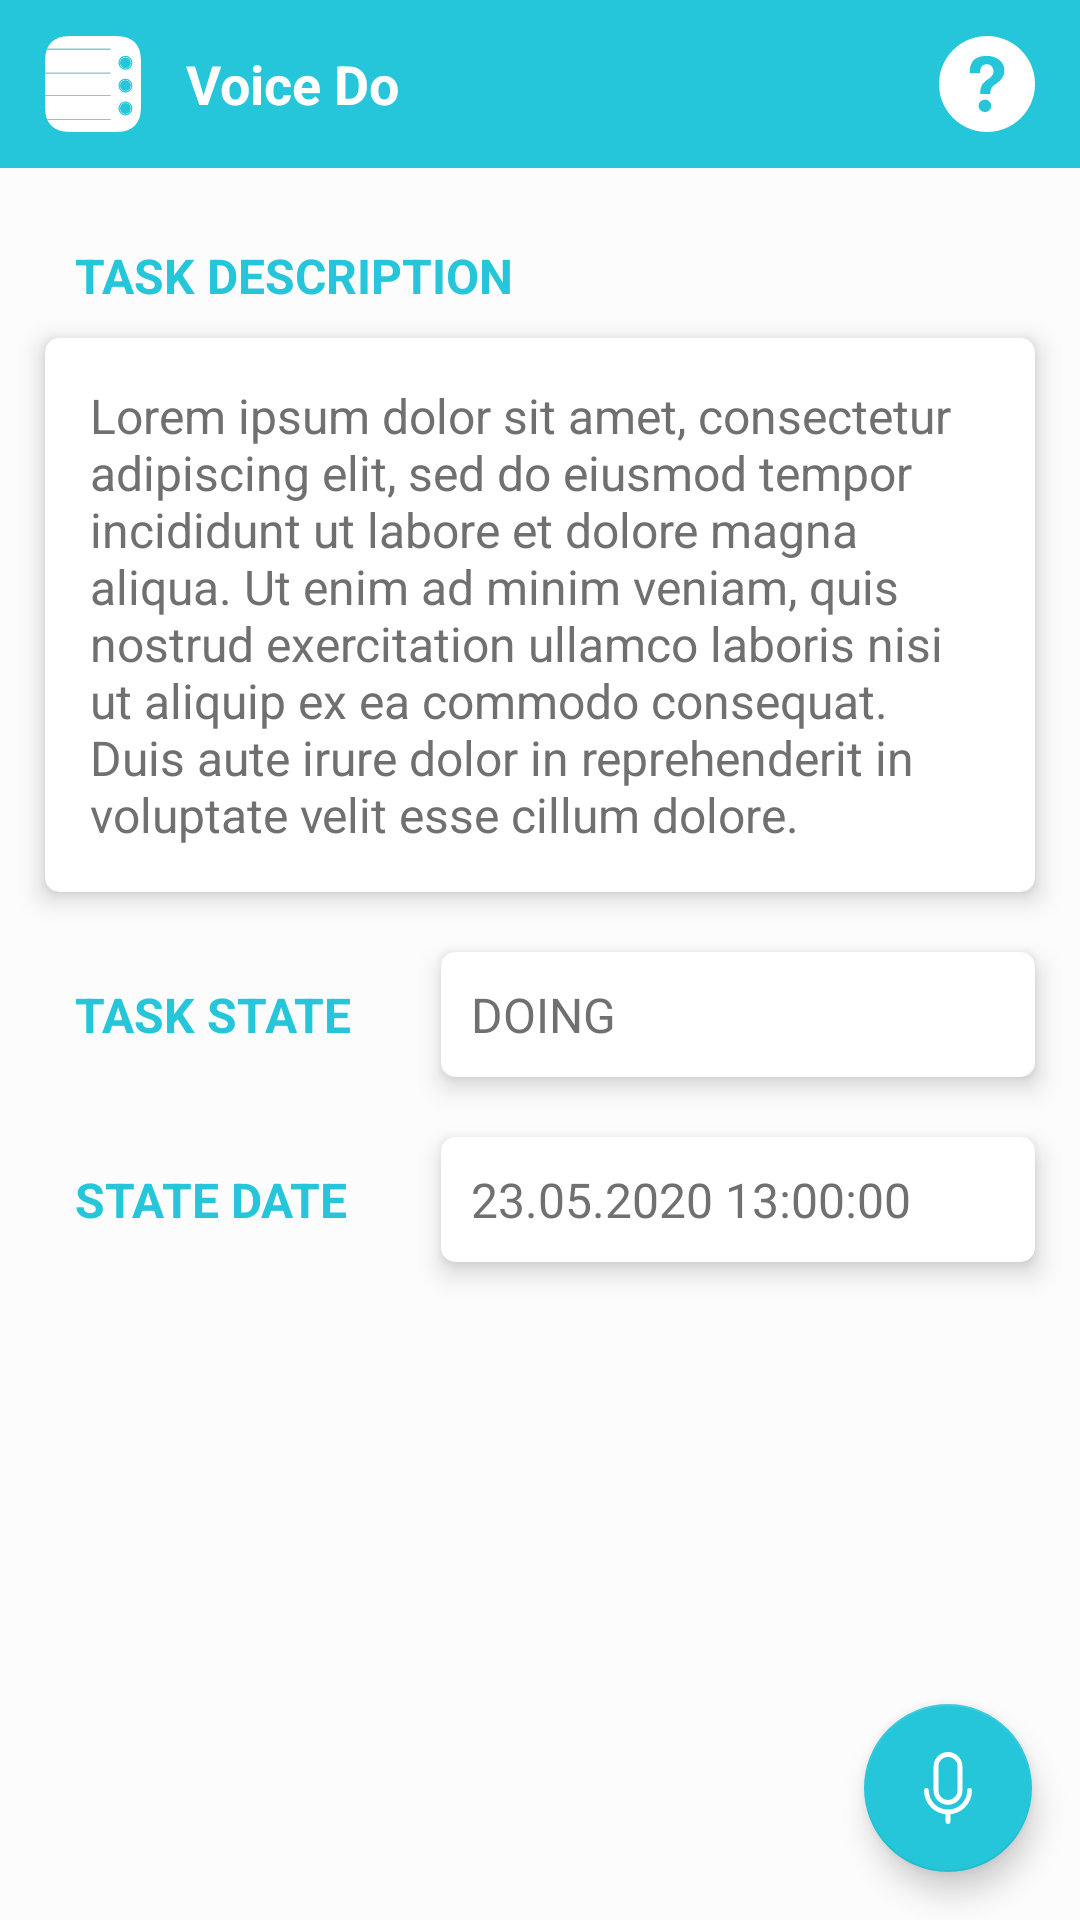

Where icons sit on this 1080px×1920px app screen, as BBox(x1, y1, x2, y2):
help: BBox(939, 36, 1035, 132)
Micrófono: BBox(864, 1704, 1032, 1872)
